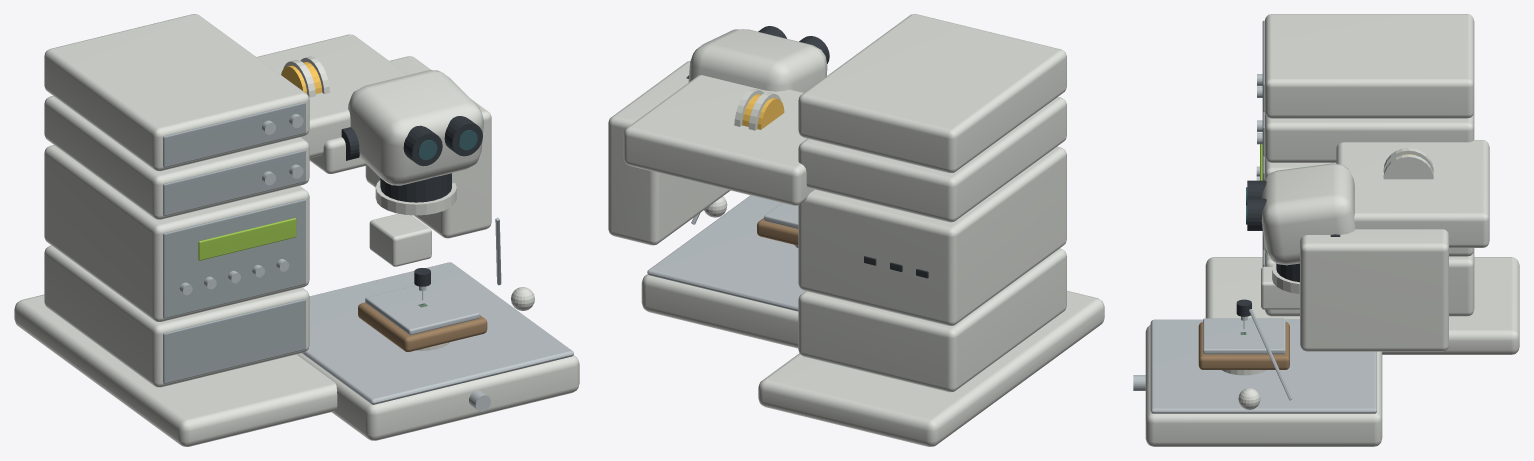
The model's file is west-bond-7700e.glb.
3 renders of one model, left to right at view 1: azimuth 30°, elevation 25°; view 2: azimuth 150°, elevation 25°; view 3: azimuth 270°, elevation 25°, orthographic. The views are drawn at different scales.
Visible parts, largest first — view 1: Top_module, Stage_metal, Left_stacking_foot, Control_main, Thermal_controller, Control_main_face, Stereo_binocular_body, Workholder_base, Wire_unit, Thermal_controller_face, Open_throat_bridge, Wire_unit_face (+12 smaller); view 2: Top_module, Control_main, Thermal_controller, Left_stacking_foot, Open_throat_bridge, Wire_unit, Stage_metal, Right_support, Stereo_binocular_body, Workholder_base, Wire_spool, Workholder_cork (+1 smaller); view 3: Top_module, Right_support, Stage_metal, Open_throat_bridge, Left_stacking_foot, Workholder_base, Stereo_binocular_body, Wire_unit, Heater_plate, Thermal_controller, Workholder_cork, Spool_flange_front (+6 smaller).
Part boxes in pixels (x1,y1,x2,y2): Top_module: (44, 14, 309, 171); Stage_metal: (302, 262, 573, 404); Left_stacking_foot: (14, 294, 337, 446); Control_main: (44, 145, 309, 321); Thermal_controller: (44, 245, 309, 387); Control_main_face: (163, 199, 305, 318); Stereo_binocular_body: (348, 70, 483, 185); Workholder_base: (297, 353, 579, 440); Wire_unit: (44, 96, 309, 219); Thermal_controller_face: (163, 299, 305, 383); Open_throat_bridge: (257, 34, 407, 157); Wire_unit_face: (163, 149, 305, 215); Top_module: (798, 14, 1066, 173); Control_main: (798, 146, 1066, 325); Thermal_controller: (798, 248, 1066, 392); Left_stacking_foot: (758, 290, 1104, 446); Open_throat_bridge: (623, 75, 814, 205); Wire_unit: (798, 97, 1066, 222); Stage_metal: (647, 195, 805, 311); Right_support: (608, 61, 730, 245); Stereo_binocular_body: (688, 29, 827, 92); Workholder_base: (641, 274, 798, 348); Wire_spool: (742, 94, 784, 129); Workholder_cork: (757, 218, 798, 245); Top_module: (1264, 14, 1474, 118); Right_support: (1300, 229, 1448, 351); Stage_metal: (1150, 319, 1376, 413); Open_throat_bridge: (1336, 140, 1489, 247); Left_stacking_foot: (1205, 257, 1519, 354); Workholder_base: (1145, 324, 1382, 446); Stereo_binocular_body: (1261, 163, 1355, 265); Wire_unit: (1264, 112, 1474, 162); Heater_plate: (1203, 318, 1285, 354); Thermal_controller: (1264, 250, 1474, 316); Workholder_cork: (1198, 322, 1289, 369); Spool_flange_front: (1383, 154, 1433, 179).
Bounding box in the file's own units: 0.465 × 0.3585 × 0.454.
